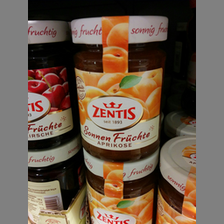jam: (69, 16, 170, 160), (82, 145, 159, 224), (28, 19, 74, 150), (29, 141, 82, 213), (156, 134, 196, 224)
